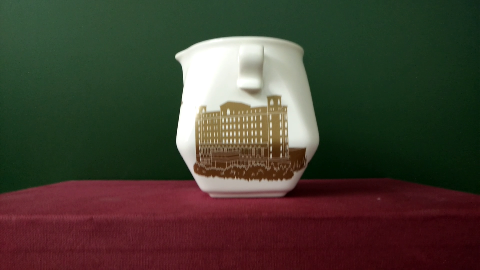law: (197, 115, 295, 175)
